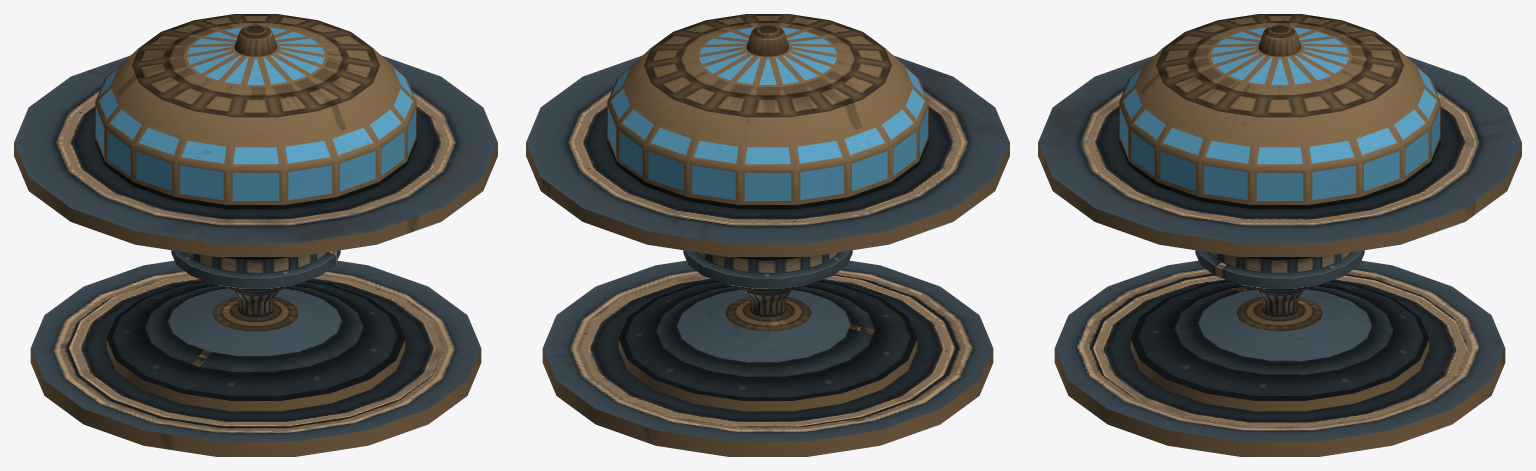
The model's file is Desk Lamp 1.fbx.
The picture shows the model from 3 angles, left to right: view 1: azimuth 30°, elevation 25°; view 2: azimuth 150°, elevation 25°; view 3: azimuth 270°, elevation 25°; orthographic projection.
Parts seen in each view (by area): view 1: Cylinder; view 2: Cylinder; view 3: Cylinder.
Boxes of the visible parts, x1=… form: Cylinder: x1=14, y1=14, x2=497, y2=456; Cylinder: x1=526, y1=14, x2=1009, y2=456; Cylinder: x1=1038, y1=14, x2=1521, y2=456.
Bounding box in the file's own units: 80.59 × 62.29 × 81.84.
